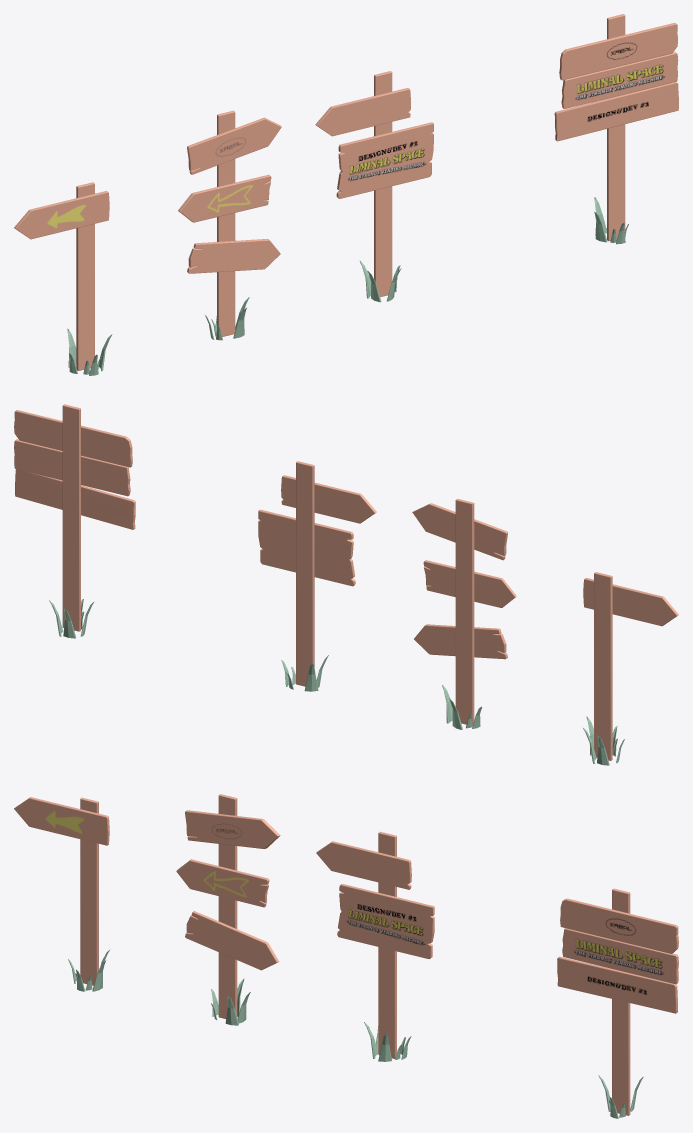
File: 03 Sign.fbx
3 views of the same model, one above another, from view 1: azimuth 30°, elevation 25°; view 2: azimuth 150°, elevation 25°; view 3: azimuth 330°, elevation 25° (orthographic).
Visible parts, largest first — view 1: Sign_Title, Sign2, Sign3, Sign1; view 2: Sign_Title, Sign3, Sign2, Sign1; view 3: Sign_Title, Sign3, Sign2, Sign1.
Part boxes in pixels (x1=…): Sign_Title: x1=554, y1=14, x2=678, y2=244; Sign2: x1=315, y1=71, x2=433, y2=302; Sign3: x1=178, y1=110, x2=281, y2=340; Sign1: x1=14, y1=182, x2=112, y2=375; Sign_Title: x1=14, y1=404, x2=135, y2=638; Sign3: x1=412, y1=499, x2=516, y2=729; Sign2: x1=258, y1=461, x2=376, y2=691; Sign1: x1=583, y1=572, x2=678, y2=765; Sign_Title: x1=557, y1=888, x2=678, y2=1118; Sign3: x1=176, y1=794, x2=280, y2=1025; Sign2: x1=316, y1=831, x2=434, y2=1061; Sign1: x1=14, y1=797, x2=109, y2=991.
Size of the model in its own units: 6.18 by 1.98 by 0.4452.
Materials: 4 (4 with a texture image).
